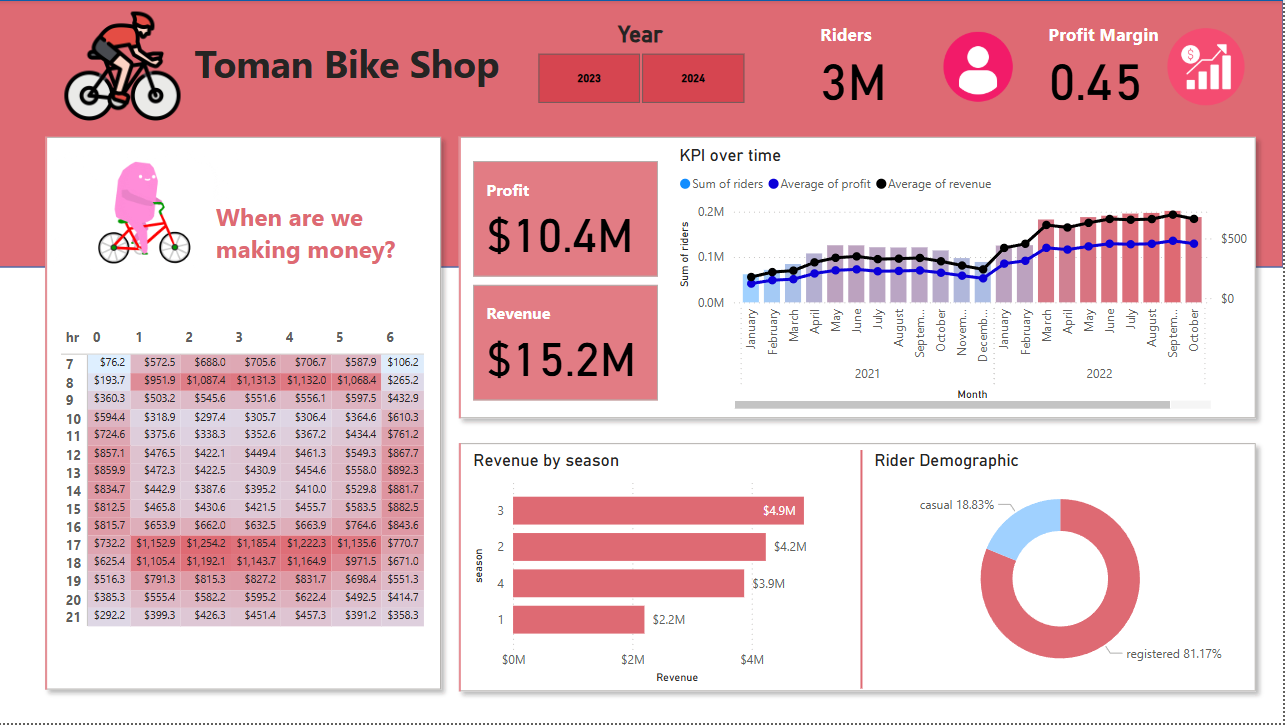

This screenshot's page, from the dashboard's own definition file:
{"tool":"powerbi","page":{"name":"Report","canvas":[1280,720],"ordinal":0},"visuals":[{"type":"shape","box":[0,0,1280.3,266.2],"z":0},{"type":"cardVisual","fields":{"Data":["Min(Query1.rider_type)"]},"box":[31.6,119.4,428.1,584.6],"z":1000},{"type":"cardVisual","fields":{"Data":["Min(Query1.rider_type)"]},"box":[443.2,119.4,827.4,314.2],"z":2000},{"type":"cardVisual","fields":{"Data":["Min(Query1.rider_type)"]},"box":[443.2,424,827.4,281.3],"z":3000},{"type":"cardVisual","fields":{"Data":["Min(Query1.rider_type)"]},"box":[31.6,93.3,234.6,240.1],"z":4000},{"type":"pivotTable","fields":{"Rows":["Query1.hr"],"Values":["Avg(Query1.revenue)"],"Columns":["Query1.weekday"]},"box":[59,321.1,373.2,317],"z":5000},{"type":"textbox","box":[212.7,193.5,203.1,145.5],"z":6000},{"type":"lineClusteredColumnComboChart","title":"KPI over time","fields":{"Y2":["Avg(Query1.profit)","Avg(Query1.revenue)"],"Y":["Sum(Query1.riders)"],"Category":["Query1.dteday.Variation.Date Hierarchy.Year","Query1.dteday.Variation.Date Hierarchy.Month"]},"box":[673.8,144.1,575,267.6],"z":7000},{"type":"clusteredBarChart","fields":{"Category":["Query1.season"],"Y":["Sum(Query1.revenue)"]},"box":[469.3,447.3,388.3,237.4],"z":8000},{"type":"donutChart","title":"Rider Demographic","fields":{"Category":["Query1.rider_type"],"Y":["Sum(Query1.riders)"]},"box":[868.6,447.3,380.1,237.4],"z":9000},{"type":"shape","box":[765.7,447.3,188,237.4],"z":10000},{"type":"cardVisual","fields":{"Data":["Sum(Query1.profit)","Sum(Query1.revenue)"]},"box":[469.3,155.1,194.9,248.4],"z":11000},{"type":"cardVisual","fields":{"Data":["Sum(Query1.riders)","Query1.Profit Margin"]},"box":[802.7,0,456.9,133.1],"z":12000},{"type":"image","box":[59,0,133.1,133.1],"z":13000},{"type":"textbox","box":[192.1,32.9,343.1,64.5],"z":14000},{"type":"slicer","title":"Year","fields":{"Values":["Query1.Year"]},"box":[512.5,19.9,255,89.6],"z":15000}]}

Visuals, with their boxes in screenshot pixels (x1, y1, x2, y2), scaled from the page's 1280x720 canvas onto the 1285x725 screenshot:
shape: detection(0, 0, 1284, 268)
cardVisual - Min(Query1.rider_type): detection(32, 120, 461, 709)
cardVisual - Min(Query1.rider_type): detection(445, 120, 1276, 437)
cardVisual - Min(Query1.rider_type): detection(445, 427, 1276, 710)
cardVisual - Min(Query1.rider_type): detection(32, 94, 267, 336)
pivotTable - Query1.hr x Avg(Query1.revenue): detection(59, 323, 434, 643)
textbox: detection(214, 195, 417, 341)
"KPI over time" lineClusteredColumnComboChart: detection(676, 145, 1254, 415)
clusteredBarChart - Query1.season x Sum(Query1.revenue): detection(471, 450, 861, 689)
"Rider Demographic" donutChart: detection(872, 450, 1254, 689)
shape: detection(769, 450, 957, 689)
cardVisual - Sum(Query1.profit) x Sum(Query1.revenue): detection(471, 156, 667, 406)
cardVisual - Sum(Query1.riders) x Query1.Profit Margin: detection(806, 0, 1265, 134)
image: detection(59, 0, 193, 134)
textbox: detection(193, 33, 537, 98)
"Year" slicer: detection(515, 20, 770, 110)
